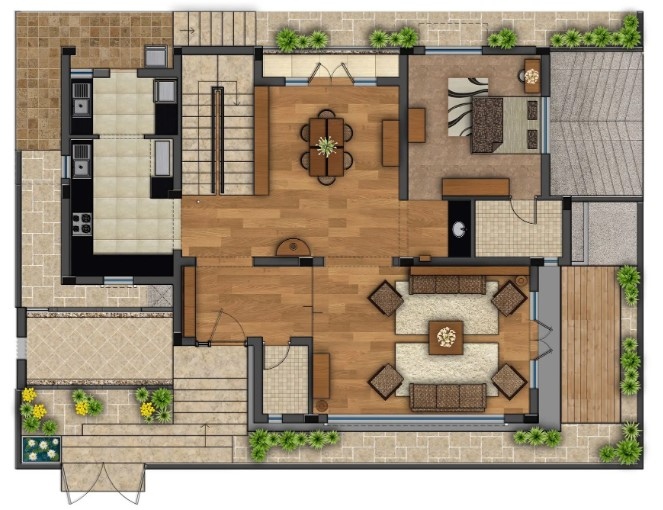room: (306, 256, 540, 423), (255, 77, 408, 266), (399, 46, 551, 201)
